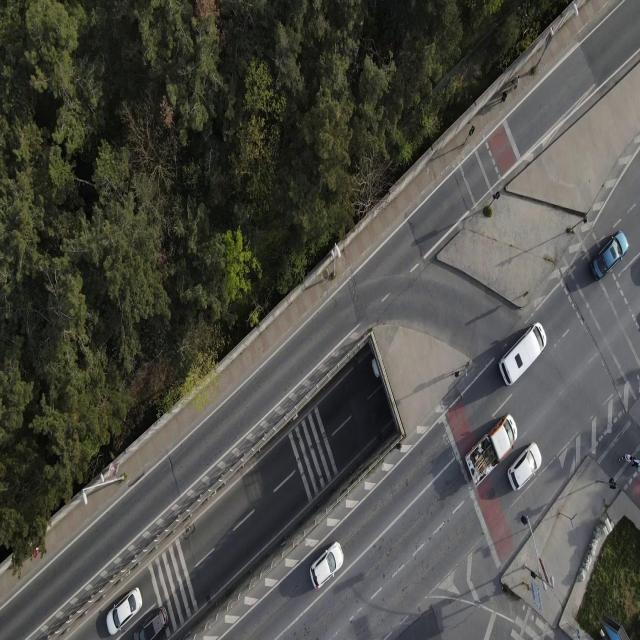p3rson: (619, 452, 633, 465), (510, 74, 520, 91), (628, 455, 640, 468), (499, 90, 508, 104)
